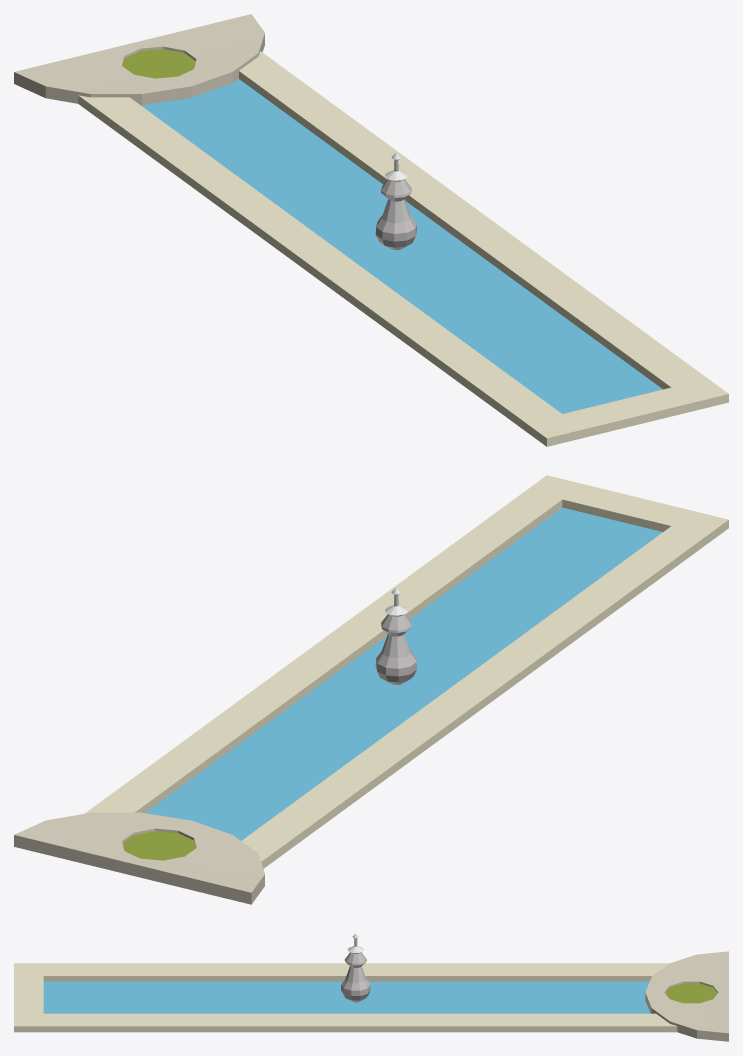
The model's file is delh_prop_01.fbx.
3 views of the same model, one above another, from view 1: azimuth 30°, elevation 25°; view 2: azimuth 150°, elevation 25°; view 3: azimuth 270°, elevation 25° (orthographic). The views are drawn at different scales.
Parts seen in each view (by area): view 1: delh_prop_01_base, delh_prop_01_fountain; view 2: delh_prop_01_base, delh_prop_01_fountain; view 3: delh_prop_01_base, delh_prop_01_fountain.
Boxes of the visible parts, x1=… form: delh_prop_01_base: x1=14, y1=14, x2=728, y2=446; delh_prop_01_fountain: x1=375, y1=152, x2=416, y2=250; delh_prop_01_base: x1=14, y1=475, x2=728, y2=904; delh_prop_01_fountain: x1=375, y1=587, x2=416, y2=684; delh_prop_01_base: x1=14, y1=951, x2=728, y2=1041; delh_prop_01_fountain: x1=341, y1=933, x2=370, y2=1002.
Bounding box in the file's own units: 232 × 89.22 × 855.
